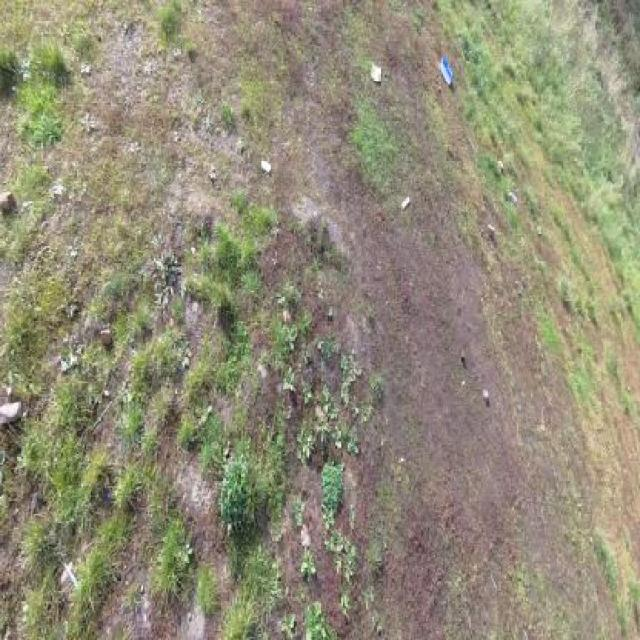Garbage: (89, 398, 114, 433), (0, 399, 23, 424), (439, 55, 453, 87), (62, 562, 79, 588), (0, 191, 16, 213), (260, 158, 273, 174), (371, 62, 380, 83), (400, 195, 411, 211), (507, 189, 517, 203), (487, 223, 495, 238), (497, 157, 504, 172), (482, 388, 488, 402)
